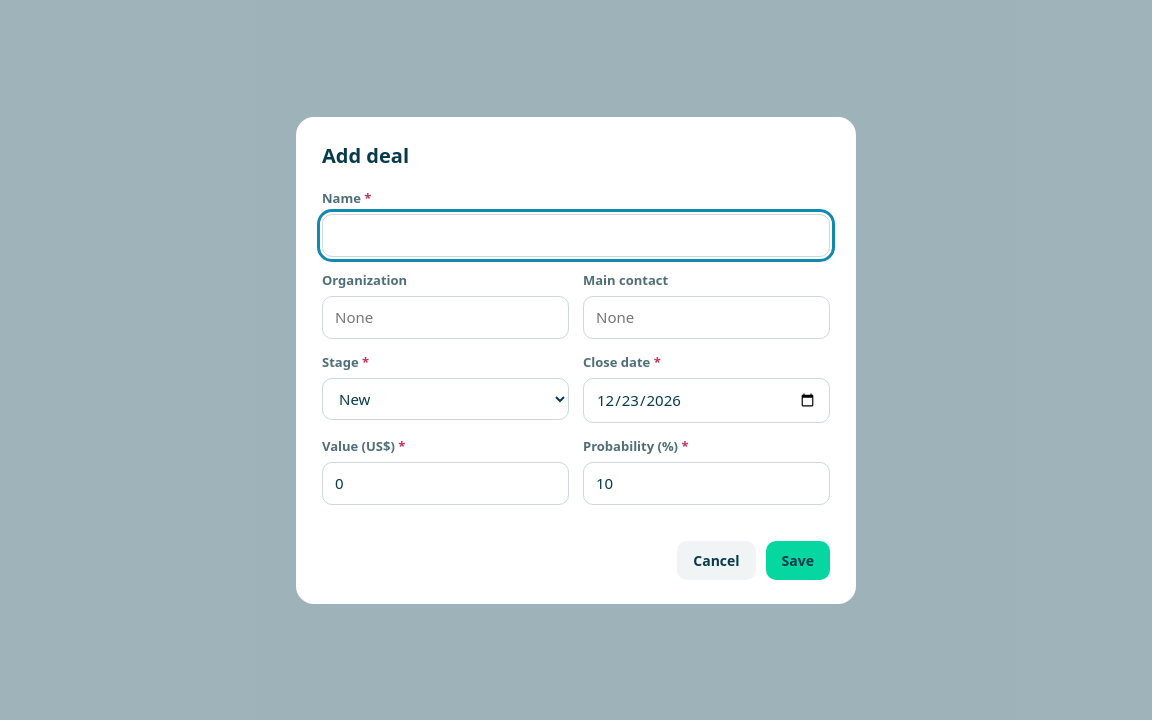
Test: saving without a name shows Required and doesn't save
What coordinates should you click on to do the following:
click the button "Save"
I would click on:
 (798, 560)
Its box is left=766, top=540, right=830, bottom=580.
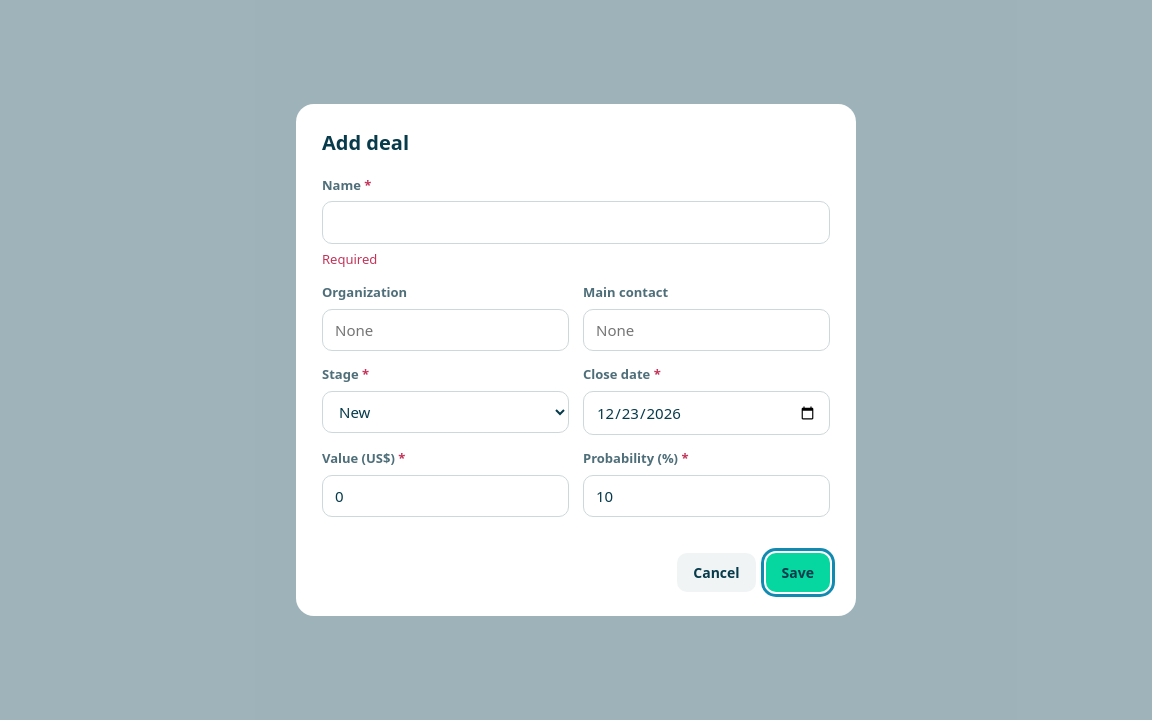
Now the text "Required" is shown, box left=322, top=250, right=377, bottom=268
